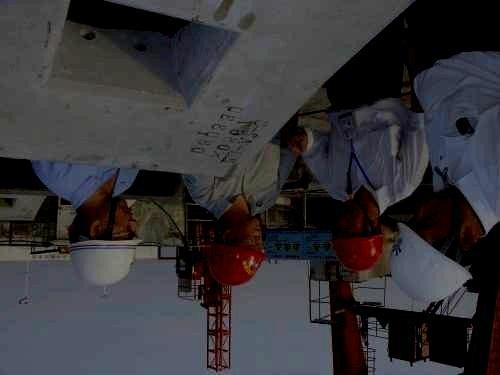helmet: (388, 185, 486, 304), (65, 195, 145, 289), (203, 206, 269, 287), (329, 198, 386, 273)
